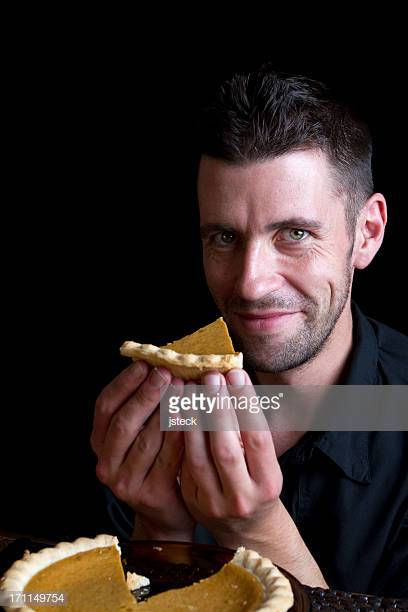eating: (59, 80, 407, 479)
